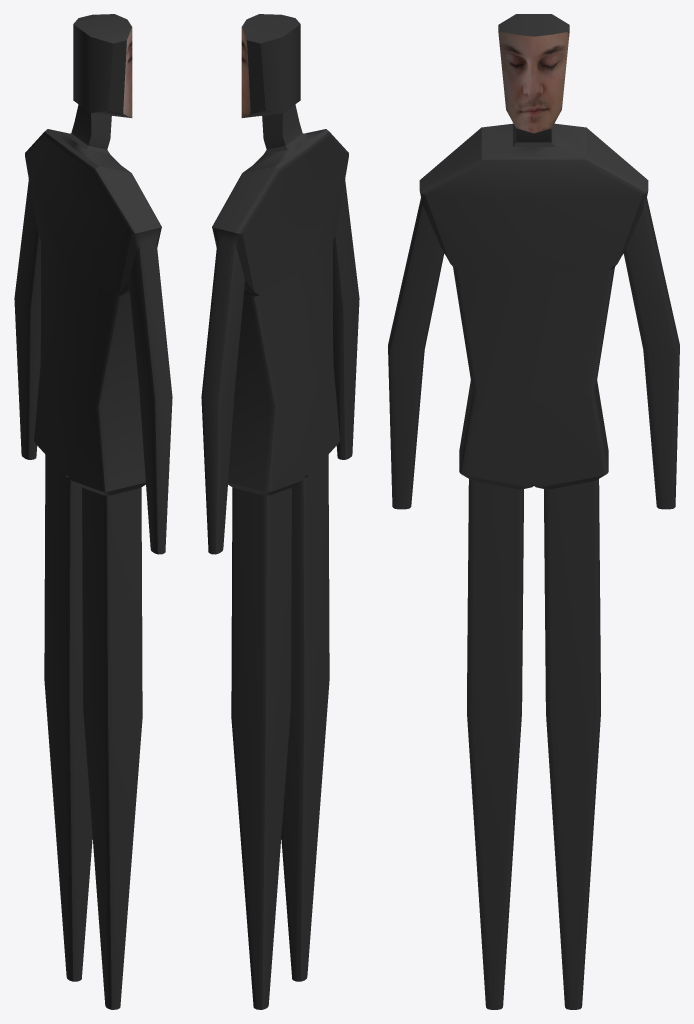
Rendered from bird_dead.fbx.
The picture shows the model from 3 angles, left to right: view 1: azimuth 30°, elevation 25°; view 2: azimuth 150°, elevation 25°; view 3: azimuth 270°, elevation 25°; orthographic projection. The views are drawn at different scales.
Parts seen in each view (by area): view 1: bird_dead; view 2: bird_dead; view 3: bird_dead.
Part boxes in pixels (box(x1,y1,x2,y2)): bird_dead: box(14, 14, 172, 1009); bird_dead: box(201, 14, 359, 1009); bird_dead: box(388, 14, 679, 1009).
Size of the model in its own units: 0.7035 by 10.93 by 2.93.
